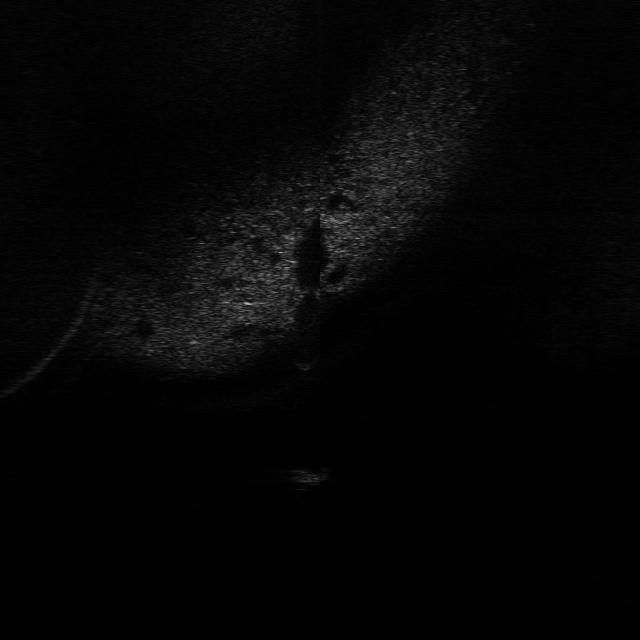ball: (288, 342, 323, 372)
cube: (283, 465, 333, 487)
